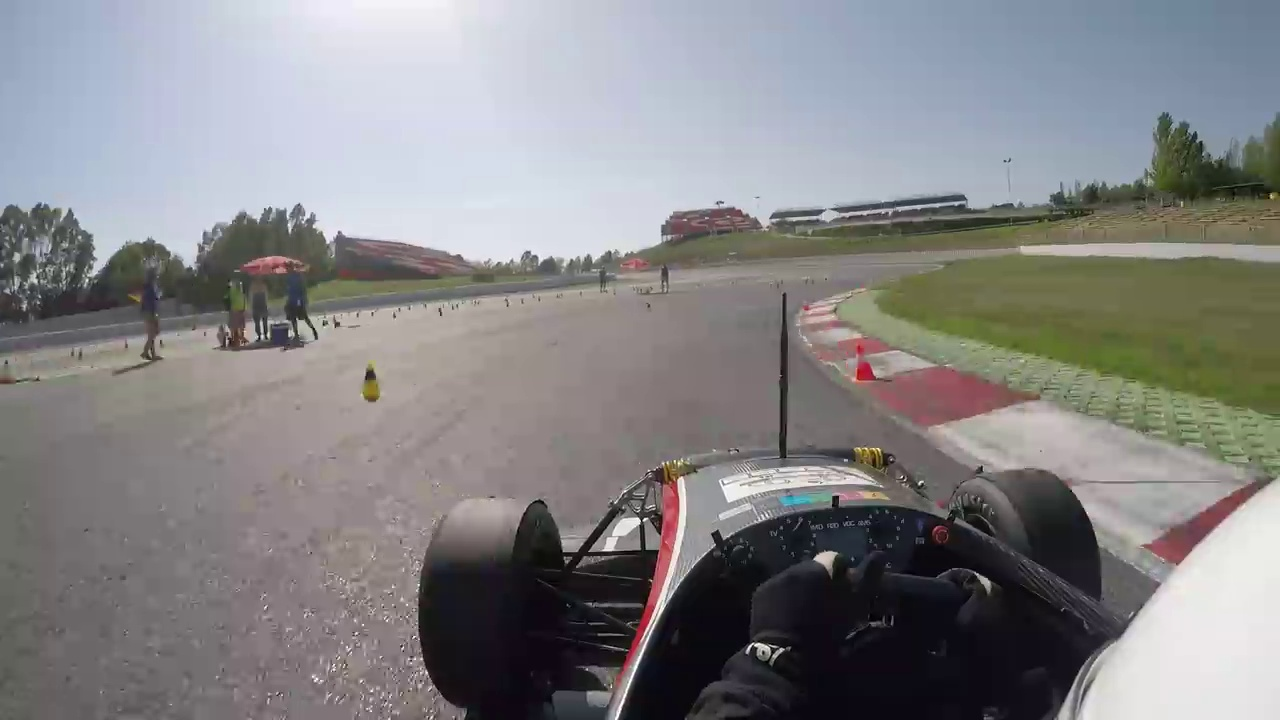Cone: (850, 341, 875, 385)
